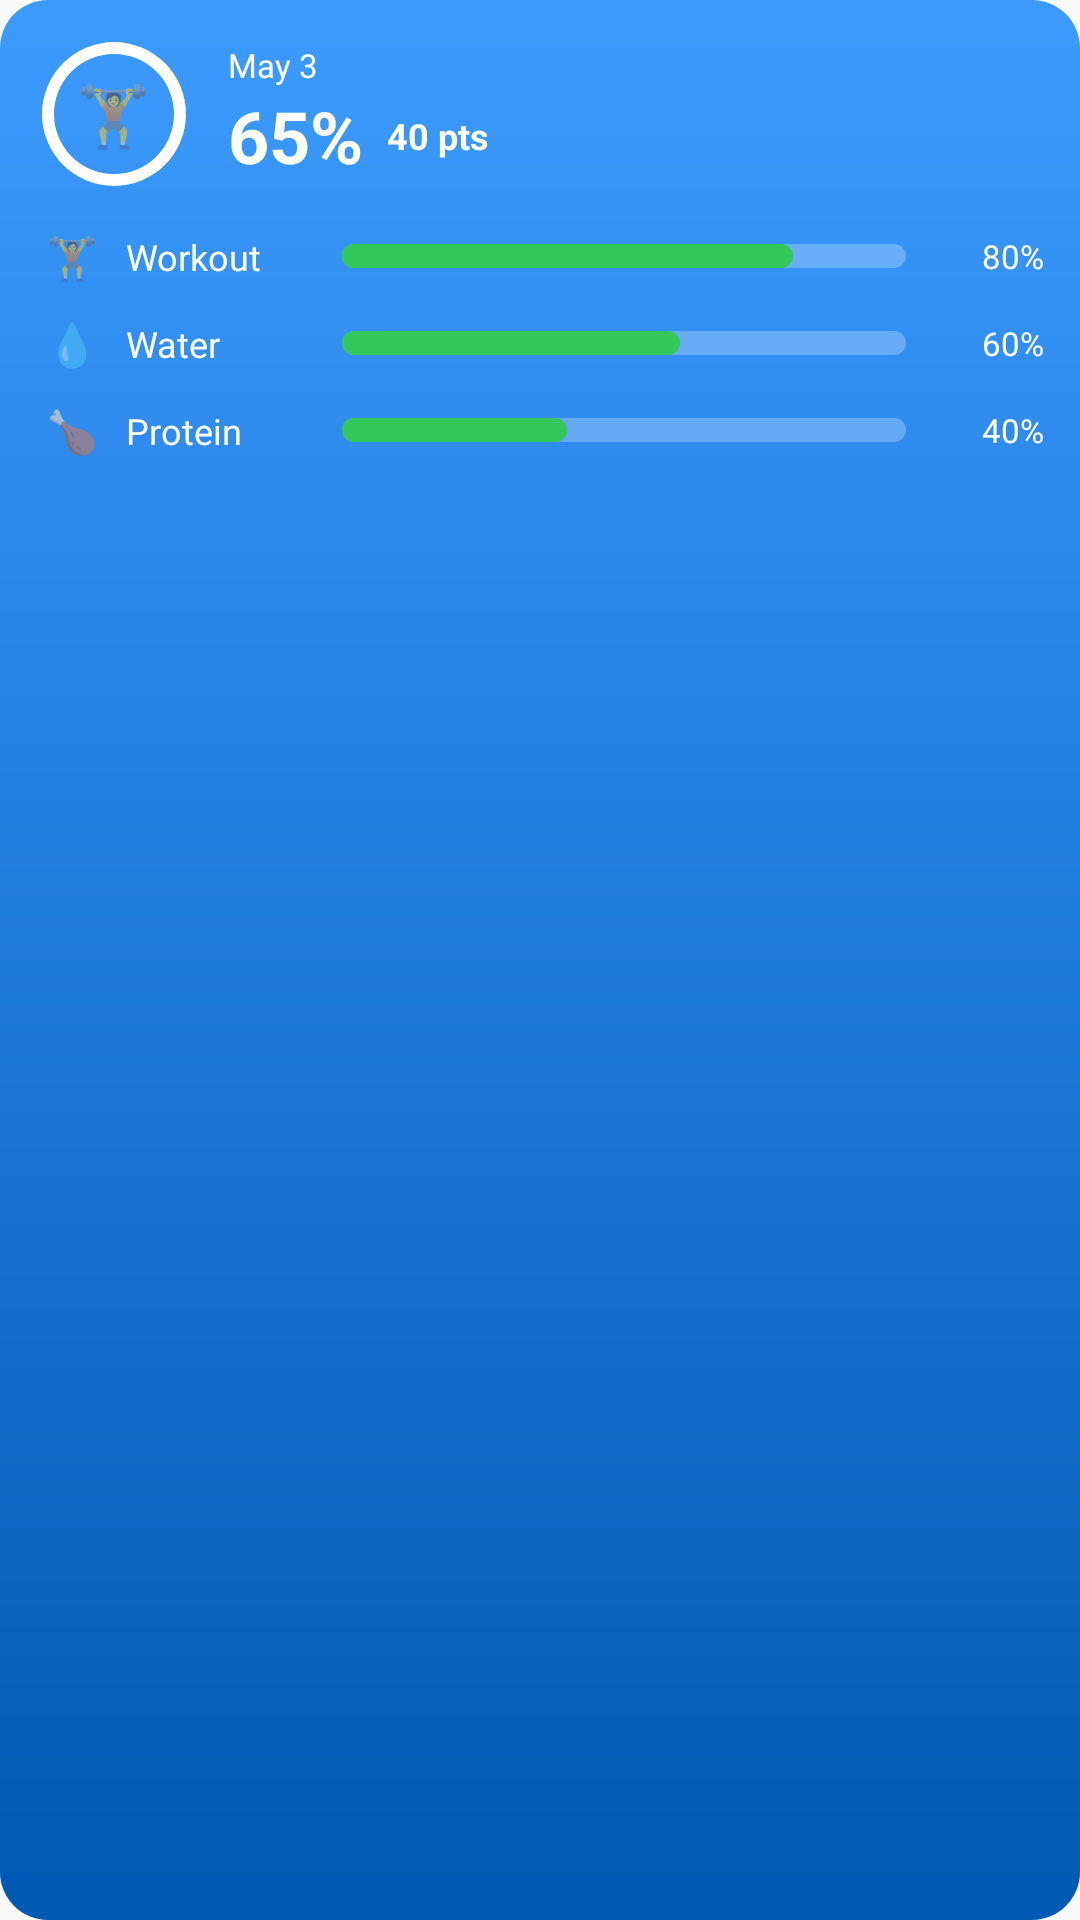

Named icons in this screenshot (1080*1920) and their bounding boxes, (x1, y1, x2, y2):
widget ring: (42, 42, 186, 186)
